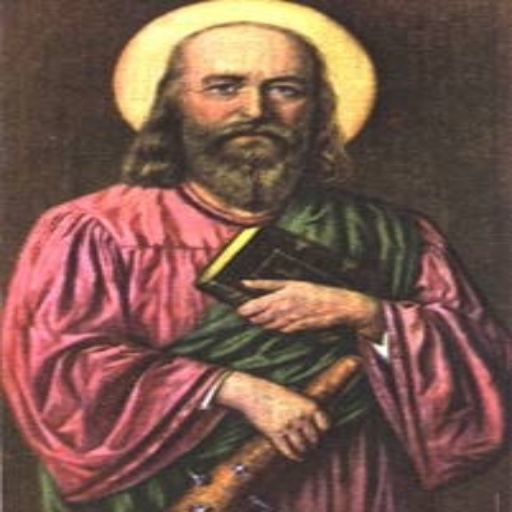hand: (224, 274, 387, 332), (236, 373, 331, 464)
